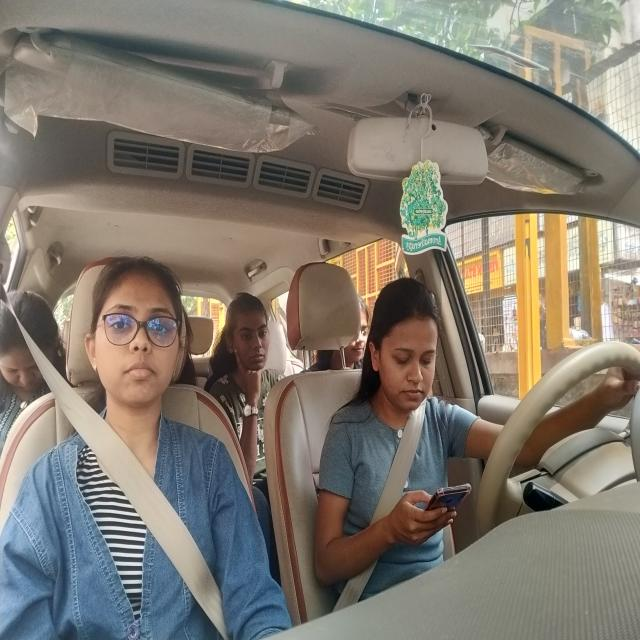mobile: (414, 475, 474, 540)
person: (88, 253, 194, 434), (360, 275, 458, 426), (0, 262, 74, 447), (216, 282, 285, 402)
